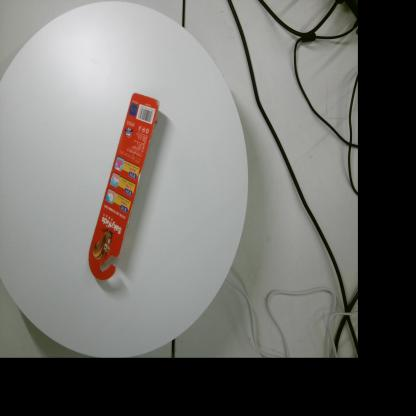Personal Hygiene: (88, 92, 160, 280)
